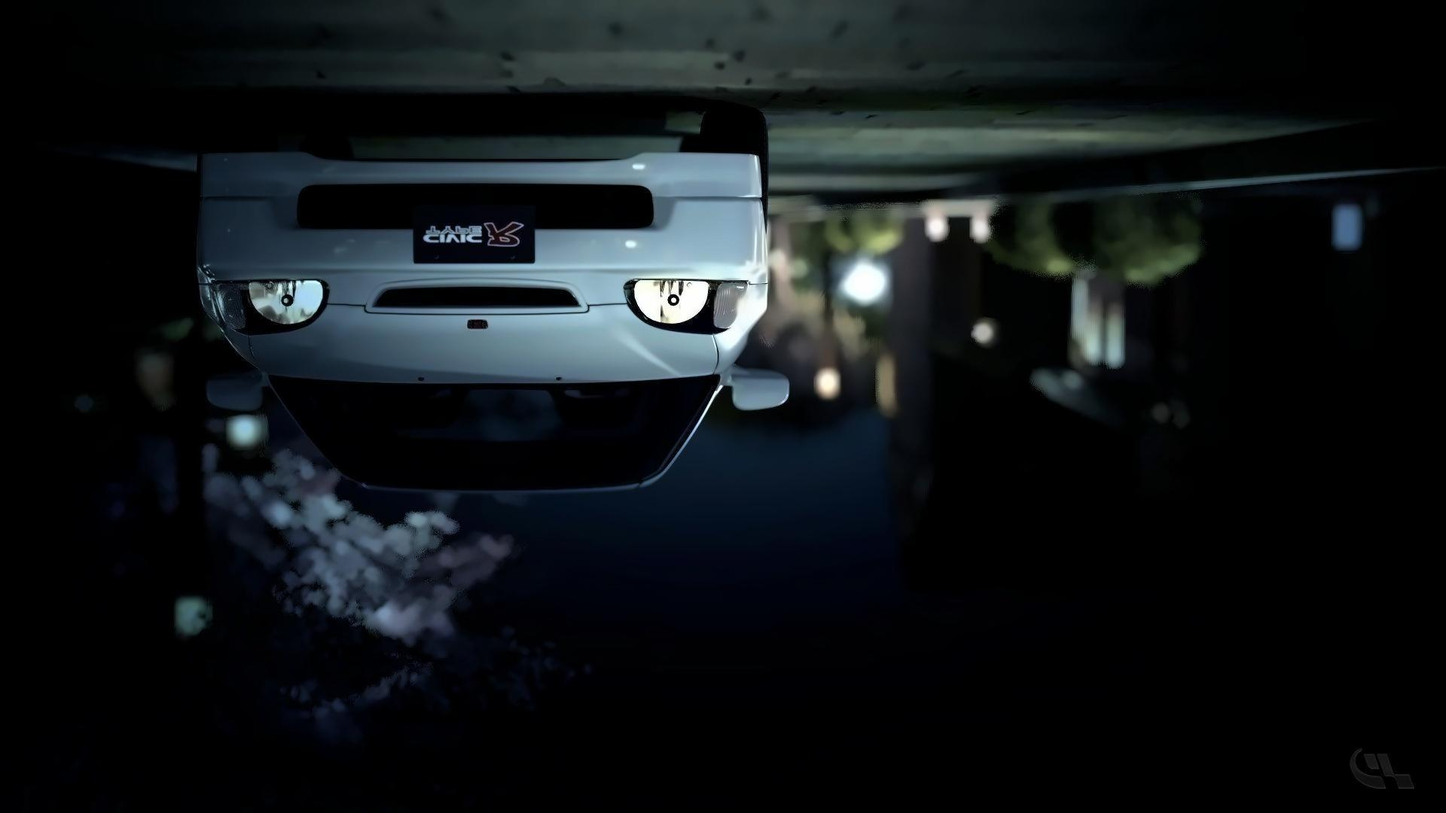Car hood: (243, 295, 724, 388)
Front bumper: (184, 131, 774, 276)
Headlight - -L-: (197, 268, 337, 345)
Headlight - -R-: (621, 270, 759, 343)
Side mirror - -L-: (190, 366, 276, 422)
Side mirror - -R-: (713, 359, 799, 415)
